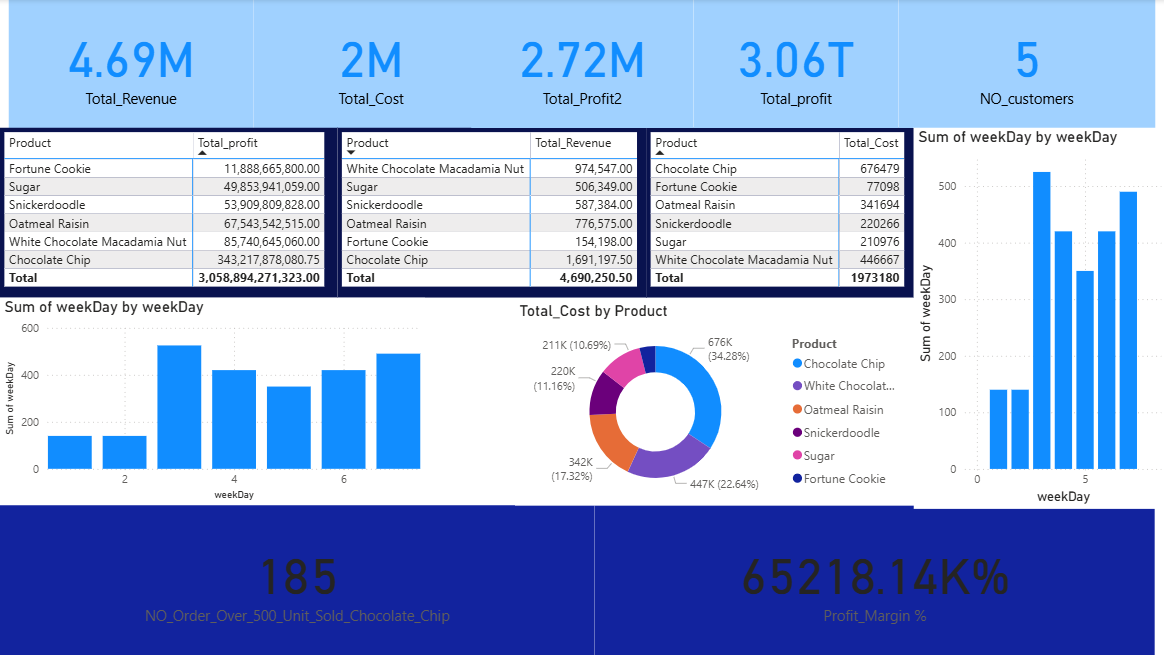

The page's visual inventory and layout, read from the dashboard file:
{"tool":"powerbi","page":{"name":"Page ١","canvas":[1280,720],"ordinal":0},"visuals":[{"type":"card","fields":{"Values":["Cookie Types.Total_Revenue"]},"box":[10,0,280,280],"z":0},{"type":"card","fields":{"Values":["Orders.Total_Cost"]},"box":[0,155.1,279.9,279.9],"z":1000},{"type":"pivotTable","fields":{"Rows":["Orders.Product"],"Values":["Cookie Types.Total_Revenue"]},"box":[303.3,94.7,362.3,150.9],"z":2000},{"type":"pivotTable","fields":{"Rows":["Orders.Product"],"Values":["Orders.Total_Cost"]},"box":[793.1,94.7,336.2,149.6],"z":3000},{"type":"card","fields":{"Values":["Orders.Total_profit"]},"box":[10,570,280,150],"z":4000},{"type":"pivotTable","fields":{"Rows":["Orders.Product"],"Values":["Orders.Total_profit"]},"box":[303.3,286.8,365,150.9],"z":5000},{"type":"card","fields":{"Values":["Orders.NO_customers"]},"box":[46.7,397.9,185.2,150.9],"z":6000},{"type":"card","fields":{"Values":["Orders.Profit_Margin %"]},"box":[793.1,275.8,336.2,167.4],"z":7000},{"type":"qnaVisual","box":[1130,570,150,150],"z":8000},{"type":"clusteredColumnChart","fields":{"Y":["Sum(Orders.weekDay)"],"Category":["Orders.weekDay"]},"box":[736.9,569.5,444.6,150.9],"z":9000},{"type":"card","fields":{"Values":["Orders.NO_Order_Over_500_Unit_Sold"]},"box":[387,570,298,150],"z":10000}]}

Visuals, with their boxes in screenshot pixels (x1, y1, x2, y2), scaled from the page's 1280x720 canvas onto the 1164x655 screenshot:
card - Cookie Types.Total_Revenue: region(9, 0, 264, 255)
card - Orders.Total_Cost: region(0, 141, 255, 396)
pivotTable - Orders.Product x Cookie Types.Total_Revenue: region(276, 86, 605, 223)
pivotTable - Orders.Product x Orders.Total_Cost: region(721, 86, 1027, 222)
card - Orders.Total_profit: region(9, 519, 264, 654)
pivotTable - Orders.Product x Orders.Total_profit: region(276, 261, 608, 398)
card - Orders.NO_customers: region(42, 362, 211, 499)
card - Orders.Profit_Margin %: region(721, 251, 1027, 403)
qnaVisual: region(1028, 519, 1163, 654)
clusteredColumnChart - Sum(Orders.weekDay) x Orders.weekDay: region(670, 518, 1074, 654)
card - Orders.NO_Order_Over_500_Unit_Sold: region(352, 519, 623, 654)
